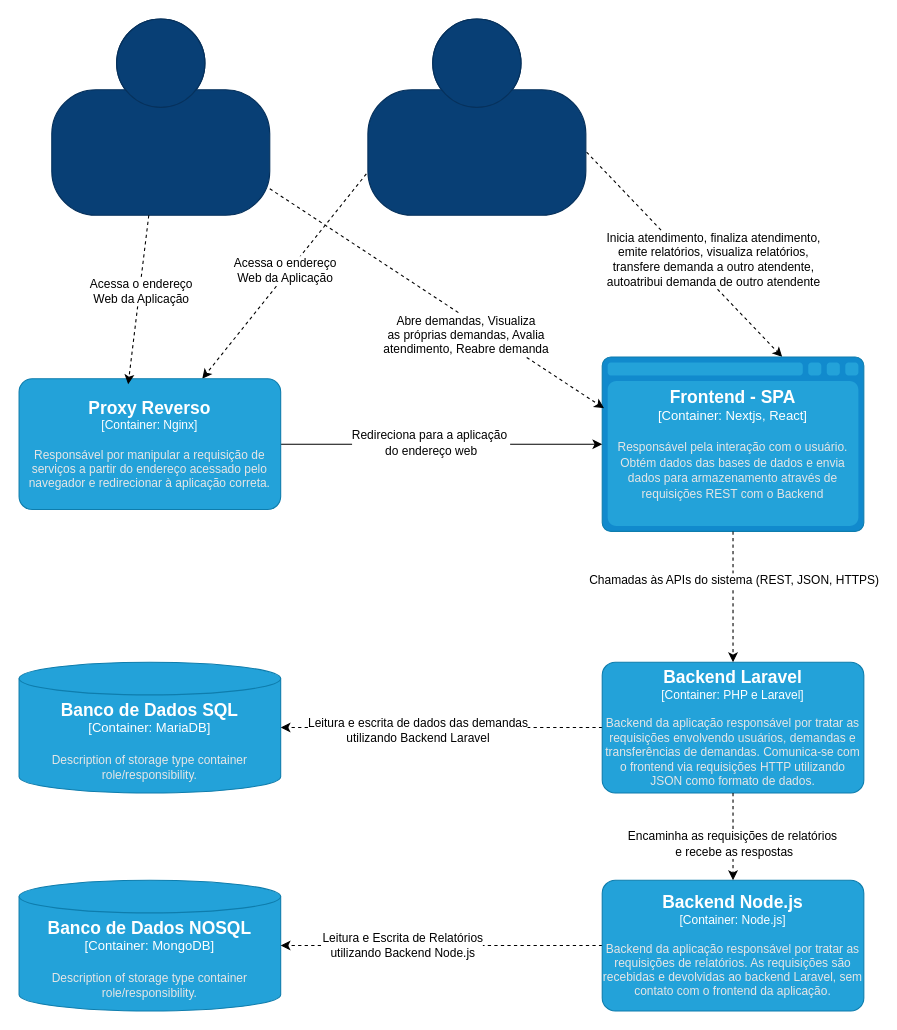
The diagram is 897 pixels wide and 1030 high, and some of its shapes have lost their labels. The shapes that lost their labels are listed below. From the top down, each one's centre as x and y in pixels, then its label:
(160,116): Usuário [Person] Usuário do sistema.
(476,116): Atendente [Person] Atendente do Sistema.
